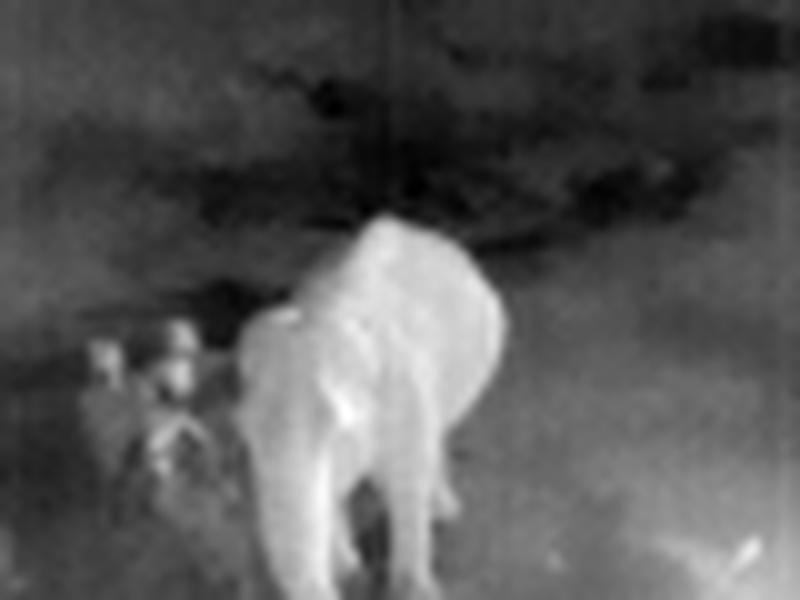elephant: (135, 211, 539, 600)
